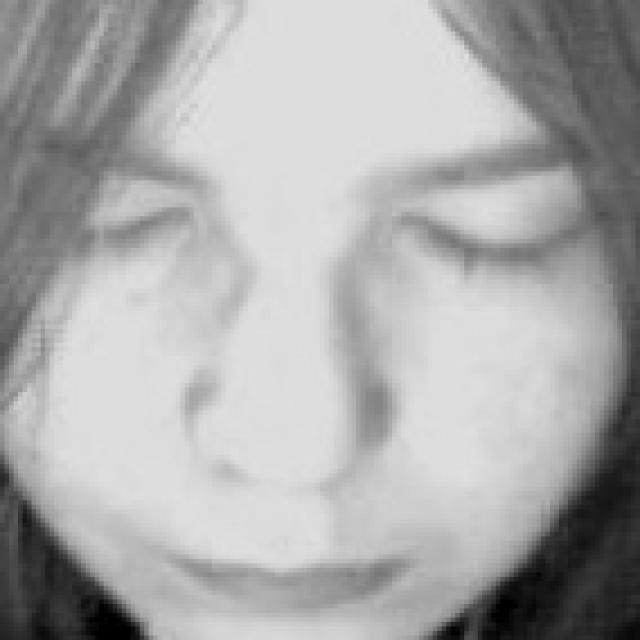real: (20, 12, 564, 632), (34, 151, 605, 291)
